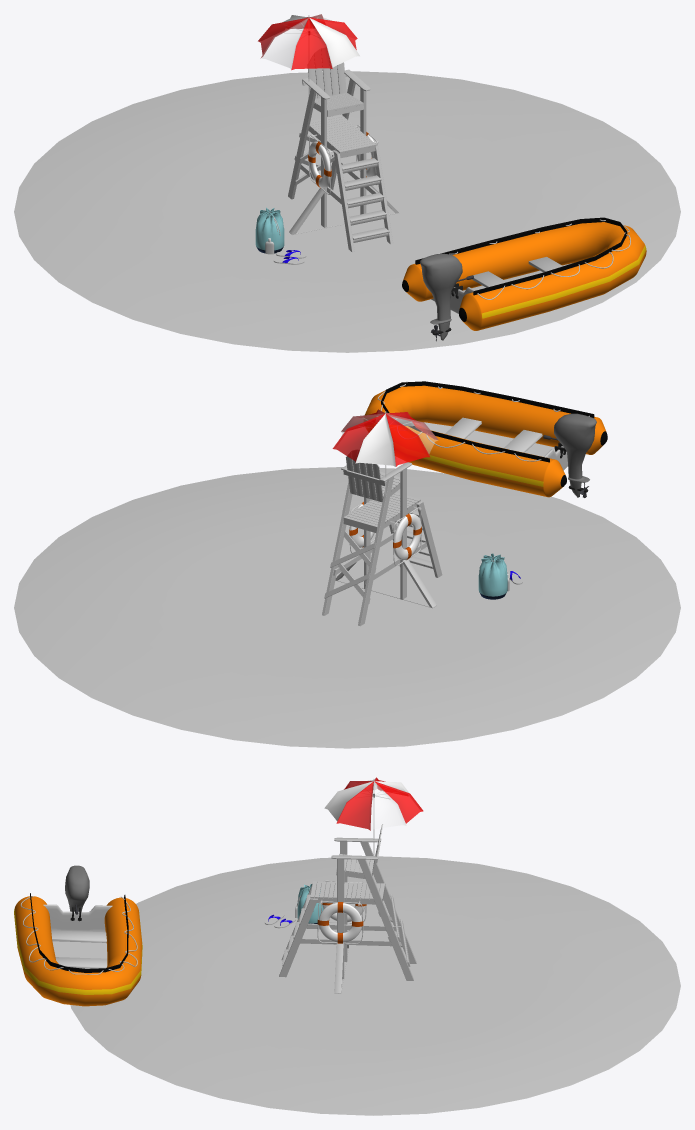
The model's file is LifeguardObservationTower.fbx.
The picture shows the model from 3 angles, top to bottom: view 1: azimuth 30°, elevation 25°; view 2: azimuth 150°, elevation 25°; view 3: azimuth 270°, elevation 25°; orthographic projection. The views are drawn at different scales.
Parts seen in each view (by area): view 1: Sand, Inflatable, umbrella, motor, Capsule, Cube_4_7, Torus, Cube_5_6, Cube_4_2, Cube_4_6, Cube_6_2; view 2: Sand, Inflatable, umbrella, motor, Capsule, Hull, Cube_4_7, Torus, Cube_6_5, Cube_4_2, Cube_5_6; view 3: Sand, Inflatable, umbrella, Hull, Cube_6_5, Torus, motor, Cube_4_7, Cube_4_6, seat_3, Cube_6_2, seat_2.
Boxes of the visible parts, x1=… form: Sand: x1=14, y1=71, x2=680, y2=352; Inflatable: x1=402, y1=217, x2=646, y2=330; umbrella: x1=258, y1=14, x2=359, y2=70; motor: x1=420, y1=253, x2=462, y2=340; Capsule: x1=255, y1=207, x2=284, y2=253; Cube_4_7: x1=288, y1=88, x2=316, y2=199; Torus: x1=308, y1=135, x2=376, y2=188; Cube_5_6: x1=333, y1=150, x2=354, y2=252; Cube_4_2: x1=321, y1=97, x2=326, y2=227; Cube_4_6: x1=373, y1=142, x2=393, y2=244; Cube_6_2: x1=360, y1=88, x2=366, y2=214; Sand: x1=14, y1=467, x2=680, y2=748; Inflatable: x1=364, y1=381, x2=607, y2=497; umbrella: x1=332, y1=409, x2=438, y2=466; motor: x1=554, y1=413, x2=596, y2=497; Capsule: x1=478, y1=553, x2=507, y2=599; Hull: x1=424, y1=422, x2=567, y2=470; Cube_4_7: x1=358, y1=476, x2=394, y2=626; Torus: x1=349, y1=504, x2=421, y2=559; Cube_6_5: x1=322, y1=481, x2=352, y2=615; Cube_4_2: x1=400, y1=468, x2=406, y2=599; Cube_5_6: x1=416, y1=501, x2=442, y2=577; Sand: x1=70, y1=856, x2=680, y2=1115; Inflatable: x1=14, y1=893, x2=142, y2=1006; umbrella: x1=324, y1=777, x2=423, y2=830; Hull: x1=43, y1=904, x2=112, y2=968; Cube_6_5: x1=358, y1=859, x2=413, y2=980; Torus: x1=319, y1=889, x2=365, y2=942; motor: x1=65, y1=865, x2=89, y2=911; Cube_4_7: x1=360, y1=842, x2=416, y2=963; Cube_4_6: x1=279, y1=898, x2=317, y2=977; seat_3: x1=51, y1=930, x2=106, y2=942; Cube_6_2: x1=337, y1=859, x2=344, y2=978; seat_2: x1=55, y1=957, x2=107, y2=968.
Size of the model in its own units: 1027 by 350 by 1114.
